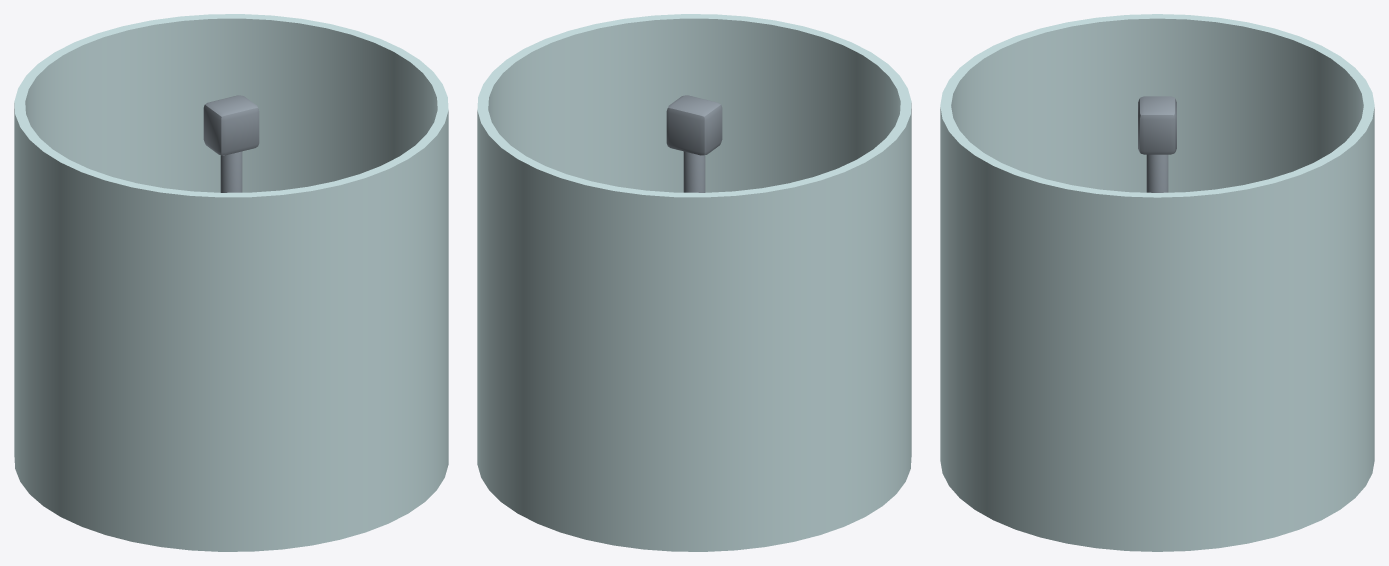
The model's file is latent_apparatus.glb.
3 views of the same model, side by side, from view 1: azimuth 30°, elevation 25°; view 2: azimuth 150°, elevation 25°; view 3: azimuth 270°, elevation 25° (orthographic).
Visible parts, largest first — view 1: Beaker, Heater_Head, Heater_Stem; view 2: Beaker, Heater_Head, Heater_Stem; view 3: Beaker, Heater_Head, Heater_Stem.
Boxes of the visible parts, x1,y1,x2,y2 form: Beaker: (14,14,448,551); Heater_Head: (203,95,259,155); Heater_Stem: (220,151,242,192); Beaker: (477,14,911,551); Heater_Head: (666,95,722,155); Heater_Stem: (683,151,705,192); Beaker: (940,14,1374,551); Heater_Head: (1138,96,1176,154); Heater_Stem: (1146,154,1168,192).
Size of the model in its own units: 2 by 1.81 by 2.
